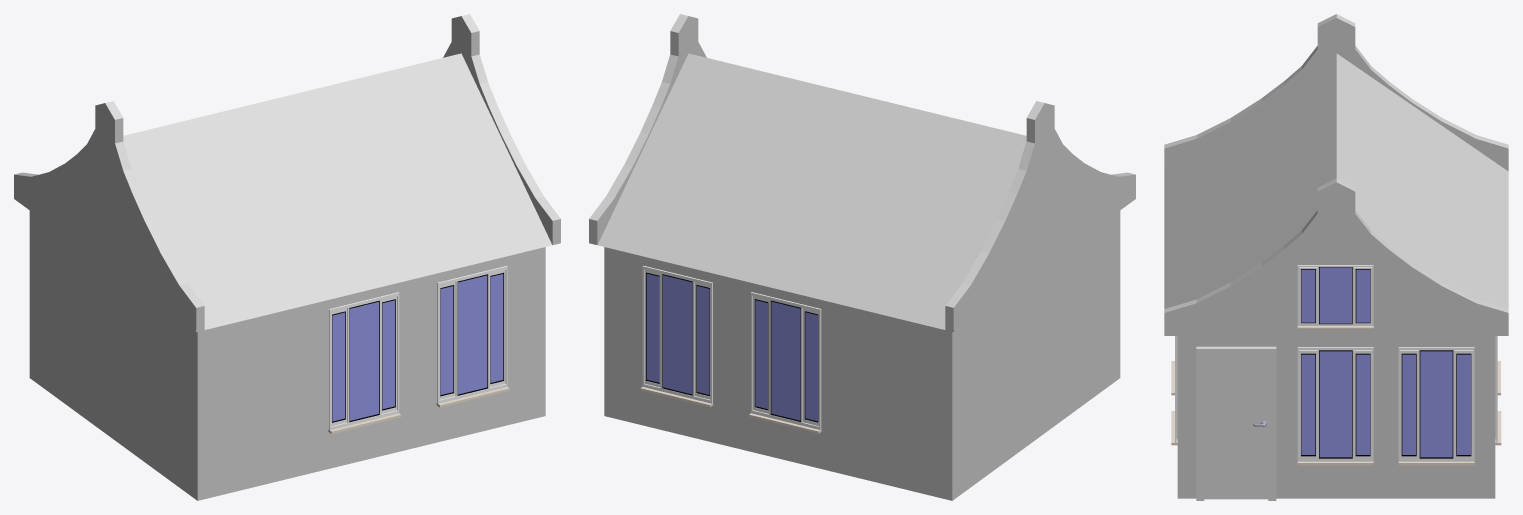
The model's file is House.fbx.
3 renders of one model, left to right at view 1: azimuth 30°, elevation 25°; view 2: azimuth 150°, elevation 25°; view 3: azimuth 270°, elevation 25°, orthographic. The views are drawn at different scales.
Parts seen in each view (by area): view 1: Roof, Base Walls, Roof Edge.001, Window.002, Window.003, Roof Edge; view 2: Roof, Base Walls, Roof Edge.001, Window.005, Window.004, Roof Edge; view 3: Roof, Base Walls, Roof Edge, Door, Window, Window.001, Roof Edge.001, Window.006, DoorFrame, Window.002, Window.005.
Part boxes in pixels (x1,y1,x2,y2): Roof: [123, 53, 551, 329]; Base Walls: [29, 211, 545, 500]; Roof Edge.001: [14, 101, 204, 332]; Window.002: [436, 266, 509, 407]; Window.003: [328, 292, 401, 433]; Roof Edge: [443, 14, 560, 245]; Roof: [598, 53, 1026, 329]; Base Walls: [604, 211, 1120, 500]; Roof Edge.001: [945, 101, 1135, 332]; Window.005: [640, 265, 713, 407]; Window.004: [749, 292, 821, 433]; Roof Edge: [589, 14, 706, 245]; Roof: [1164, 53, 1508, 308]; Base Walls: [1177, 336, 1495, 498]; Roof Edge: [1164, 178, 1508, 335]; Door: [1204, 356, 1268, 499]; Window: [1398, 347, 1474, 465]; Window.001: [1297, 347, 1373, 465]; Roof Edge.001: [1164, 14, 1508, 171]; Window.006: [1297, 265, 1373, 328]; DoorFrame: [1196, 346, 1276, 500]; Window.002: [1171, 336, 1177, 445]; Window.005: [1495, 336, 1501, 445].
Size of the model in its own units: 1326 by 1162 by 1133.
